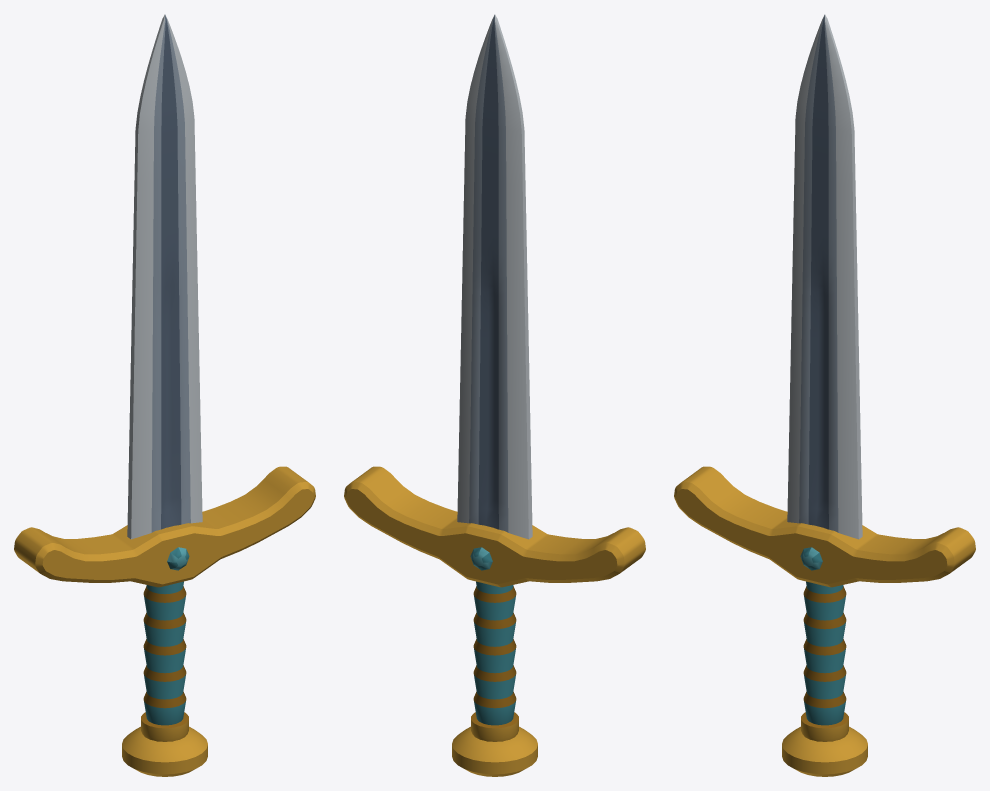
The model's file is Longsword_10.glb.
The picture shows the model from 3 angles, left to right: view 1: azimuth 30°, elevation 25°; view 2: azimuth 150°, elevation 25°; view 3: azimuth 330°, elevation 25°; orthographic projection.
Visible parts, largest first — view 1: Longsword_10; view 2: Longsword_10; view 3: Longsword_10.
Boxes of the visible parts, left/top/right/bottom form: Longsword_10: left=14, top=14, right=315, bottom=776; Longsword_10: left=344, top=14, right=645, bottom=776; Longsword_10: left=674, top=14, right=975, bottom=776.
Size of the model in its own units: 2.68 by 6.83 by 0.7124.
